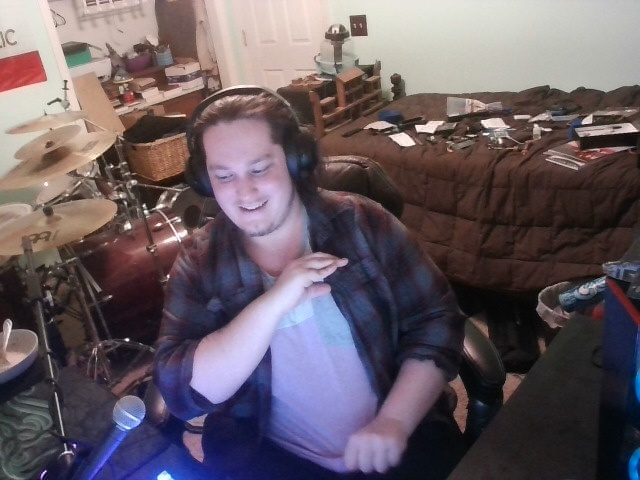police: (261, 241, 356, 319)
